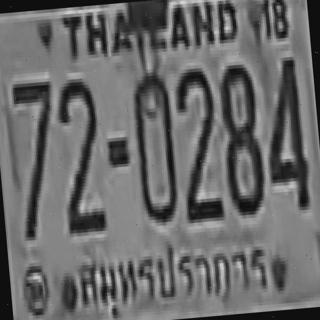N00: (130, 68, 178, 221)
N02: (54, 74, 106, 230), (171, 63, 222, 218)
N04: (259, 53, 310, 209)
N07: (9, 78, 62, 238)
N08: (217, 60, 264, 213)
P57: (72, 234, 276, 316)
